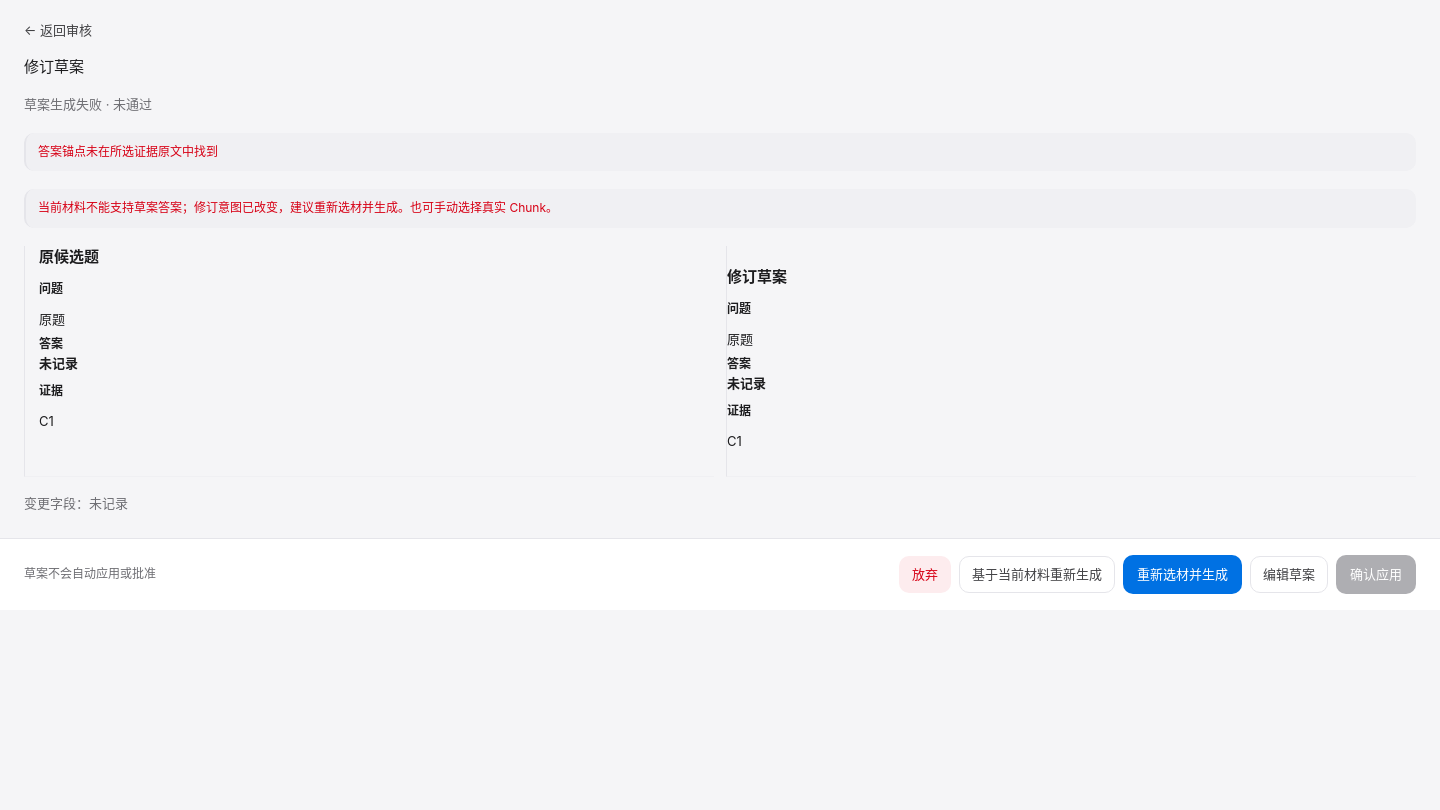
Test case: keeps the manual chunk picker pending until product documents arrive, then retains selection controls
The image size is (1440, 810).
Later steps or results of the test are not shown.
Click the button "重新选材并生成" at (1182, 574), box [1123,555,1242,594]
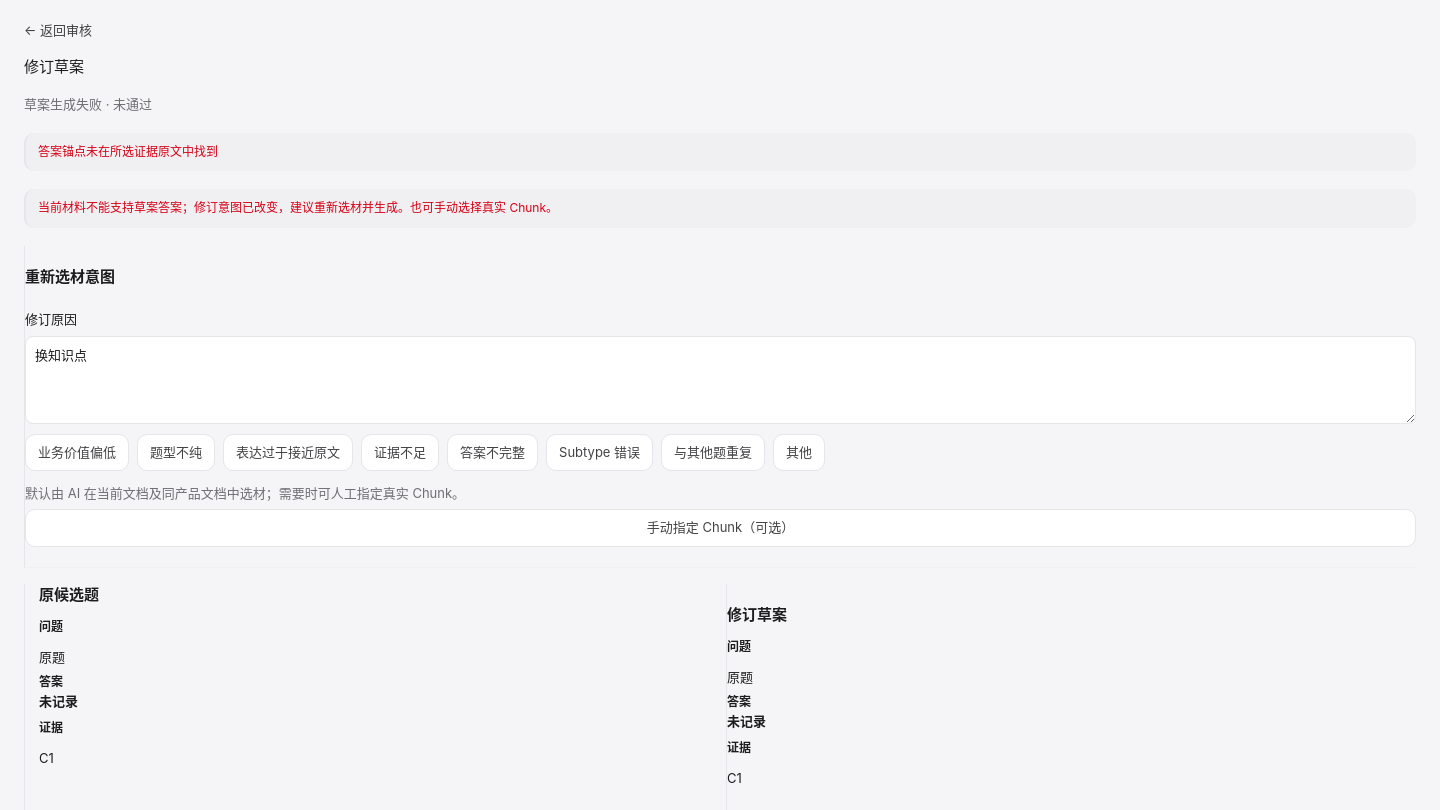
Click the button "手动指定 Chunk（可选）" at (720, 528), box [25,509,1416,547]
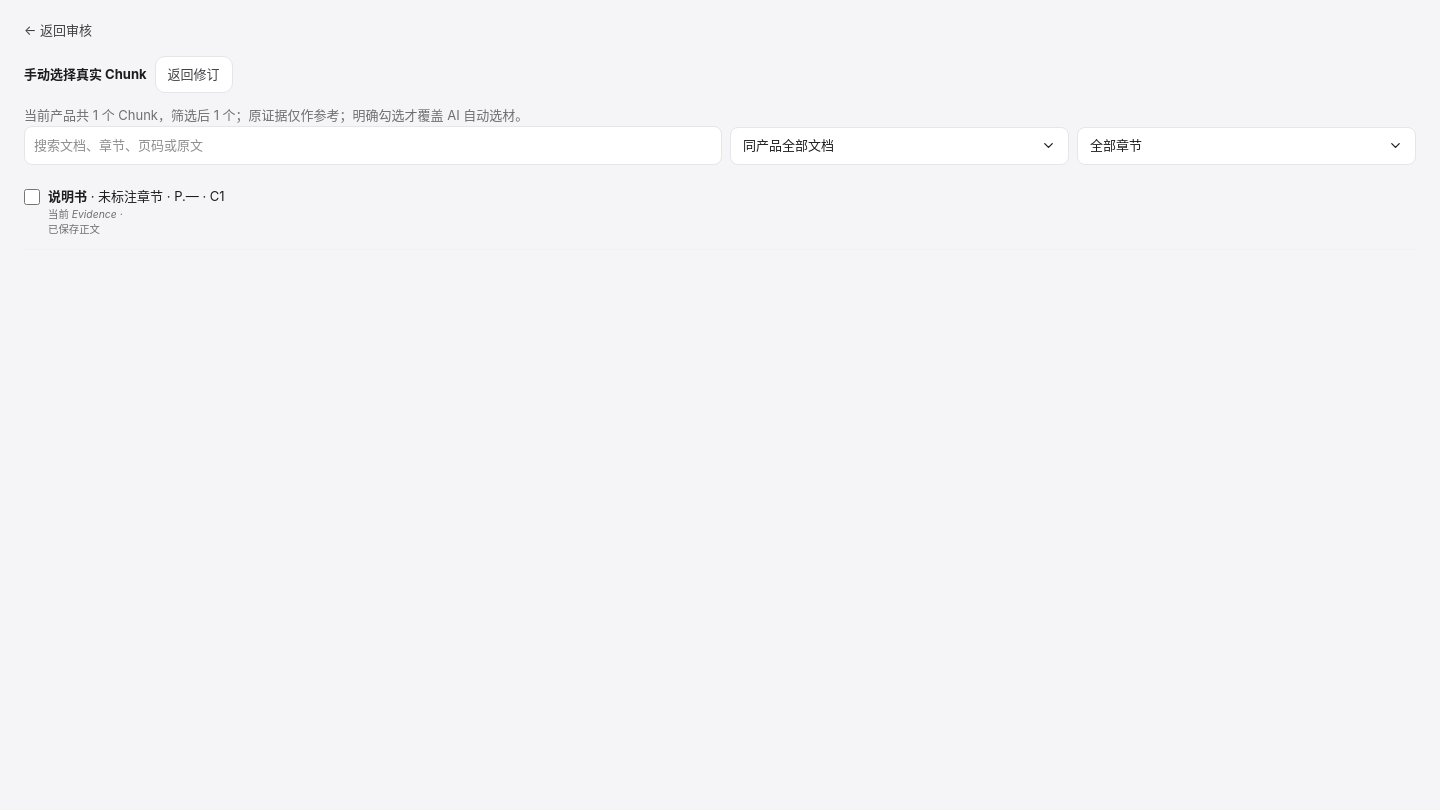
Now the number of checkboxes is 1, box [24,189,40,205]
Click the button "返回修订" at (194, 74), box [154,56,232,93]
(page scrolled)
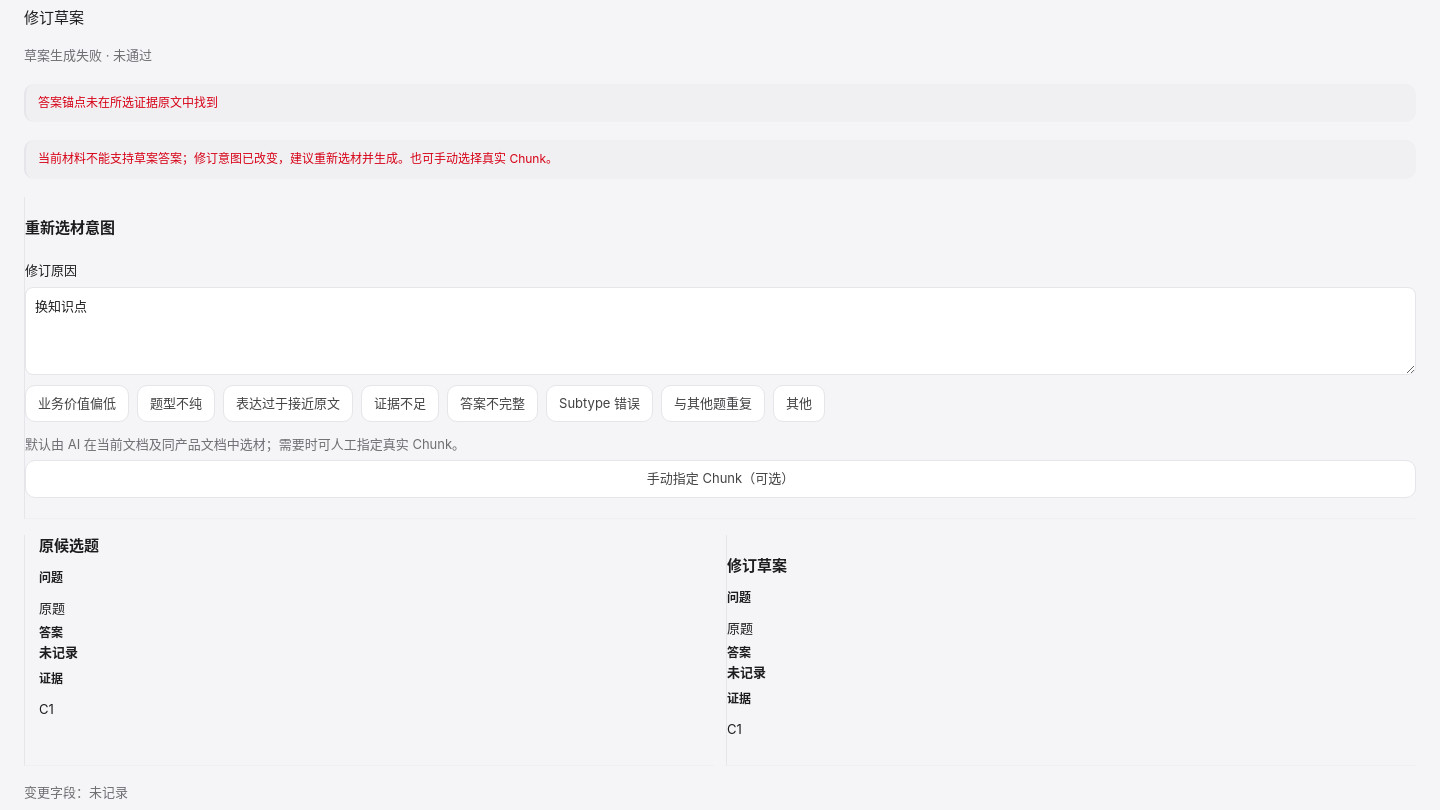
Now the element with class "draft-workspace" is shown
